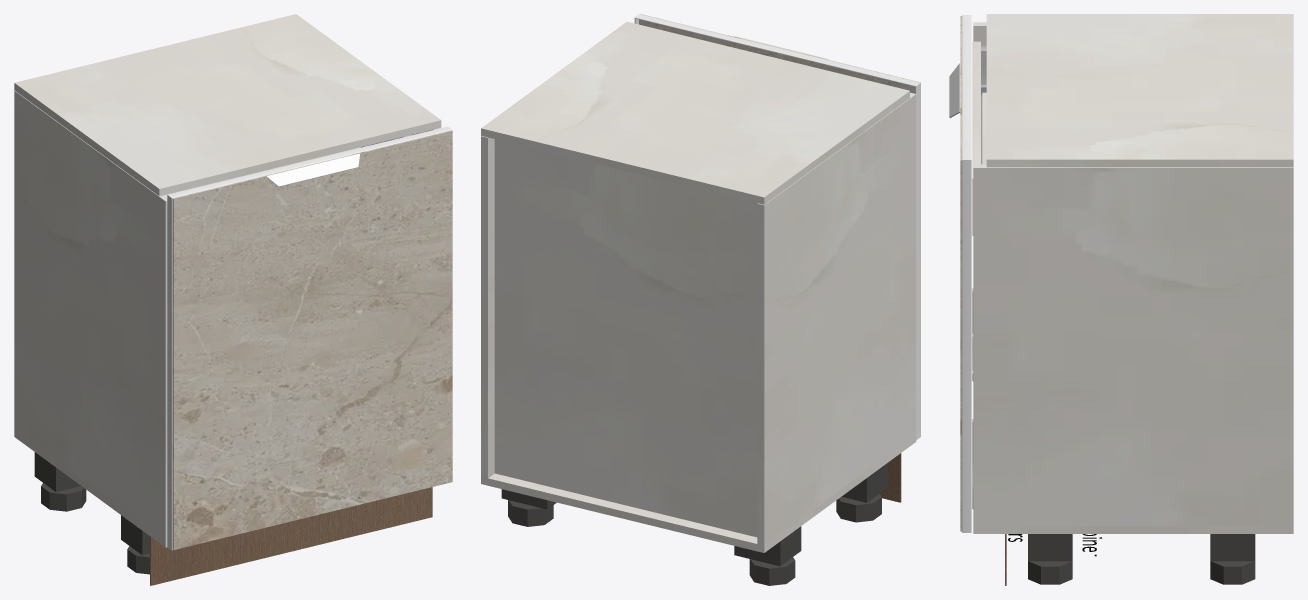
3 views of the same model, side by side, from view 1: azimuth 30°, elevation 25°; view 2: azimuth 150°, elevation 25°; view 3: azimuth 270°, elevation 25° (orthographic). The views are drawn at different scales.
Size of what is drawn, in the model's own units: 0.6 by 0.82 by 0.6.
8 materials, 3 textured.
